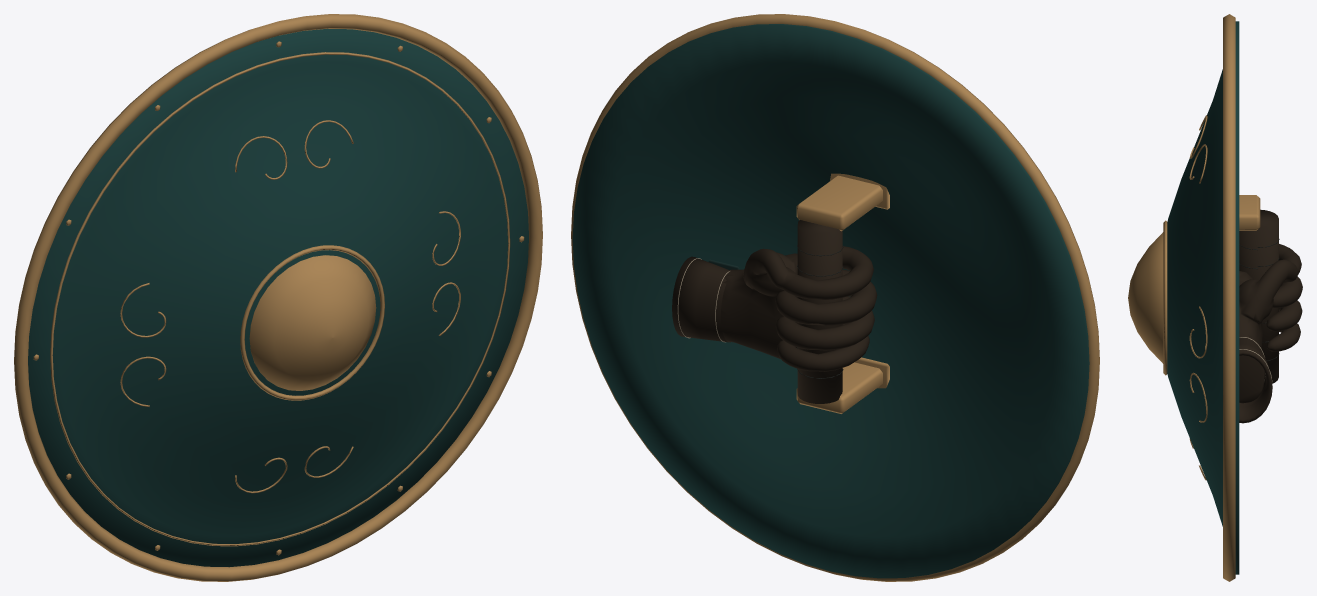
File: qalqan_with_left_glove-ZVQsD5OI.glb
3 renders of one model, left to right at view 1: azimuth 30°, elevation 25°; view 2: azimuth 150°, elevation 25°; view 3: azimuth 270°, elevation 25°, orthographic. The views are drawn at different scales.
Visible parts, largest first — view 1: Qalqan • Deep teal shield finish.001, Qalqan • Satin champagne bronze.001; view 2: Qalqan • Deep teal shield finish.001, Left glove • Supple charcoal leather.001, Qalqan • Satin champagne bronze.001, Qalqan • Supple charcoal leather.001; view 3: Qalqan • Deep teal shield finish.001, Qalqan • Satin champagne bronze.001, Left glove • Supple charcoal leather.001, Qalqan • Supple charcoal leather.001.
Part boxes in pixels (<box>): Qalqan • Deep teal shield finish.001: <box>28,28,528,567</box>; Qalqan • Satin champagne bronze.001: <box>14,14,542,581</box>; Qalqan • Deep teal shield finish.001: <box>572,24,1089,578</box>; Left glove • Supple charcoal leather.001: <box>672,246,877,371</box>; Qalqan • Satin champagne bronze.001: <box>571,14,1099,581</box>; Qalqan • Supple charcoal leather.001: <box>797,220,842,403</box>; Qalqan • Deep teal shield finish.001: <box>1167,21,1239,574</box>; Qalqan • Satin champagne bronze.001: <box>1128,14,1260,581</box>; Left glove • Supple charcoal leather.001: <box>1239,244,1302,423</box>; Qalqan • Supple charcoal leather.001: <box>1239,209,1278,383</box>.
Bounding box in the file's own units: 0.46 × 0.46 × 0.1415.
